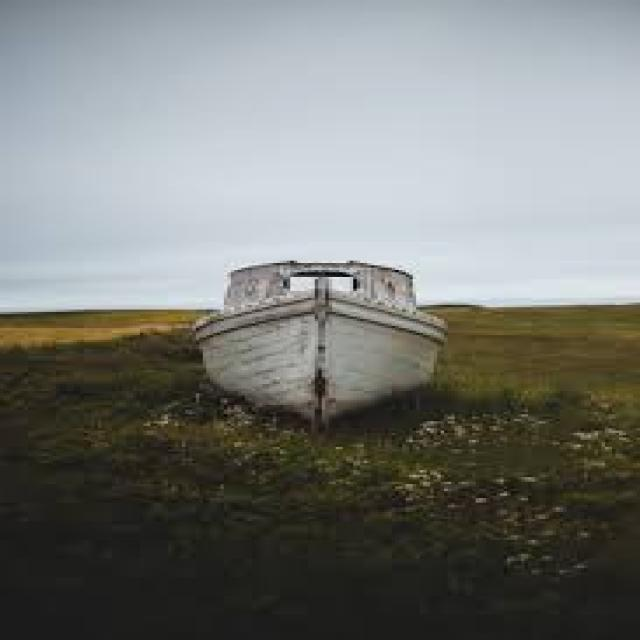ship2: (192, 262, 449, 435)
